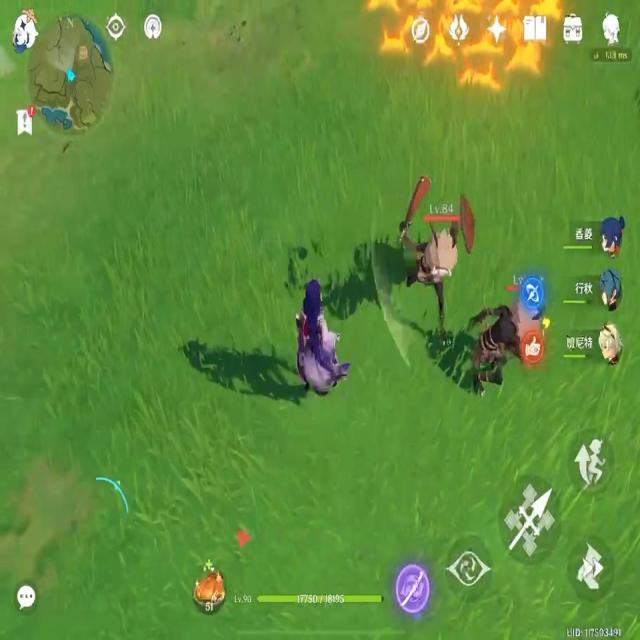genshin-hilichurls: (462, 256, 540, 404), (404, 156, 468, 322)
